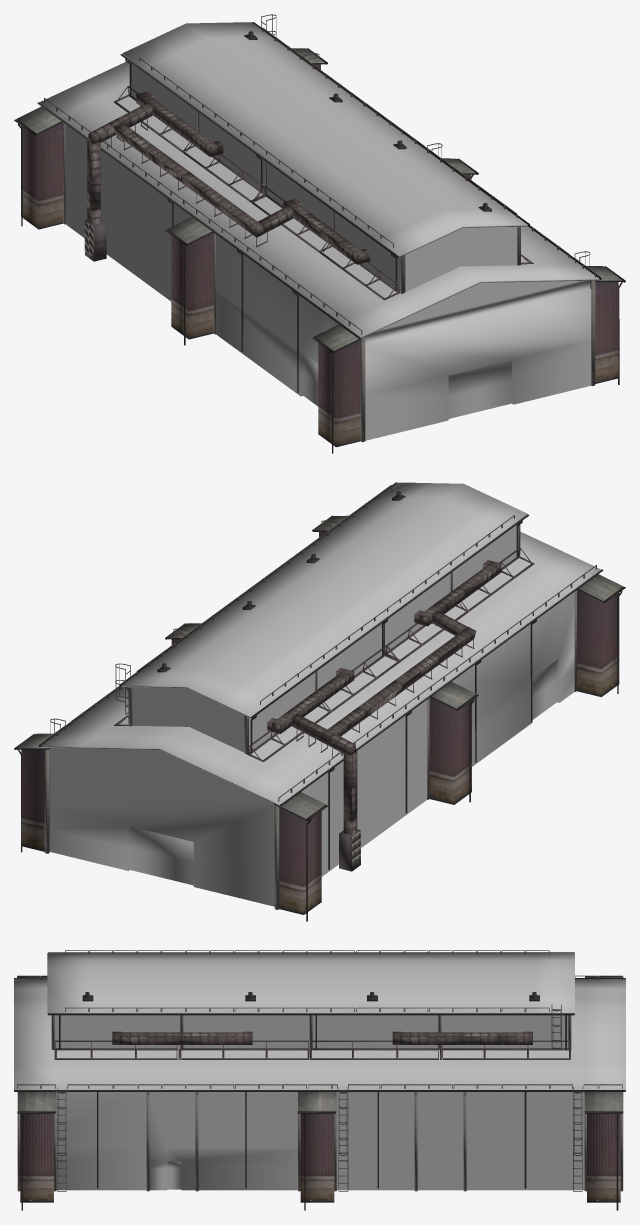
The model's file is Main_Building.glb.
3 renders of one model, top to bottom at view 1: azimuth 30°, elevation 25°; view 2: azimuth 150°, elevation 25°; view 3: azimuth 270°, elevation 25°, orthographic. The views are drawn at different scales.
Visible parts, largest first — view 1: Main_Building; view 2: Main_Building; view 3: Main_Building.
Boxes of the visible parts, x1=… form: Main_Building: x1=14, y1=14, x2=625, y2=453; Main_Building: x1=14, y1=482, x2=625, y2=921; Main_Building: x1=14, y1=950, x2=625, y2=1210.
Bounding box in the file's own units: 43.41 × 25.92 × 82.09.
2 materials, 1 textured.
